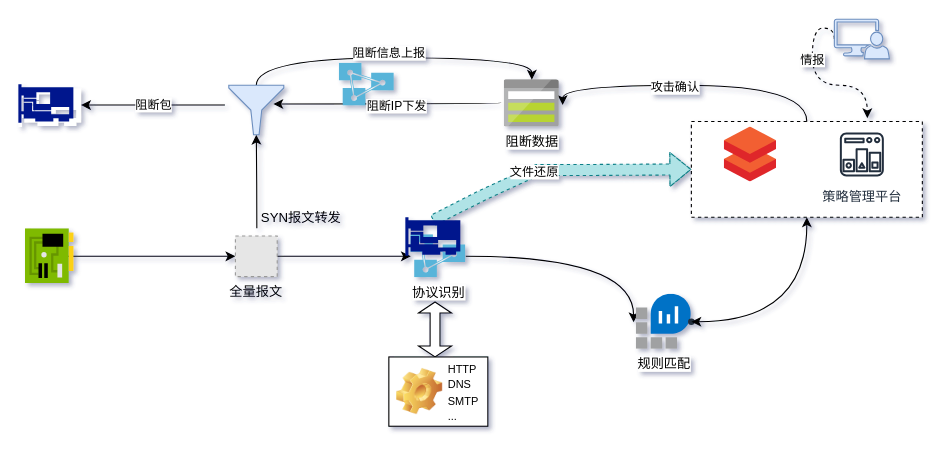
Some shapes in this 949 by 452 pixel diagram are drawn without their labels. Grey dashed boxes stand in for pictures. Each missing label, with the centre of its shape:
DPDK收包: [49,255]
IP过滤: [256,109]
存储及分析: [750,154]
